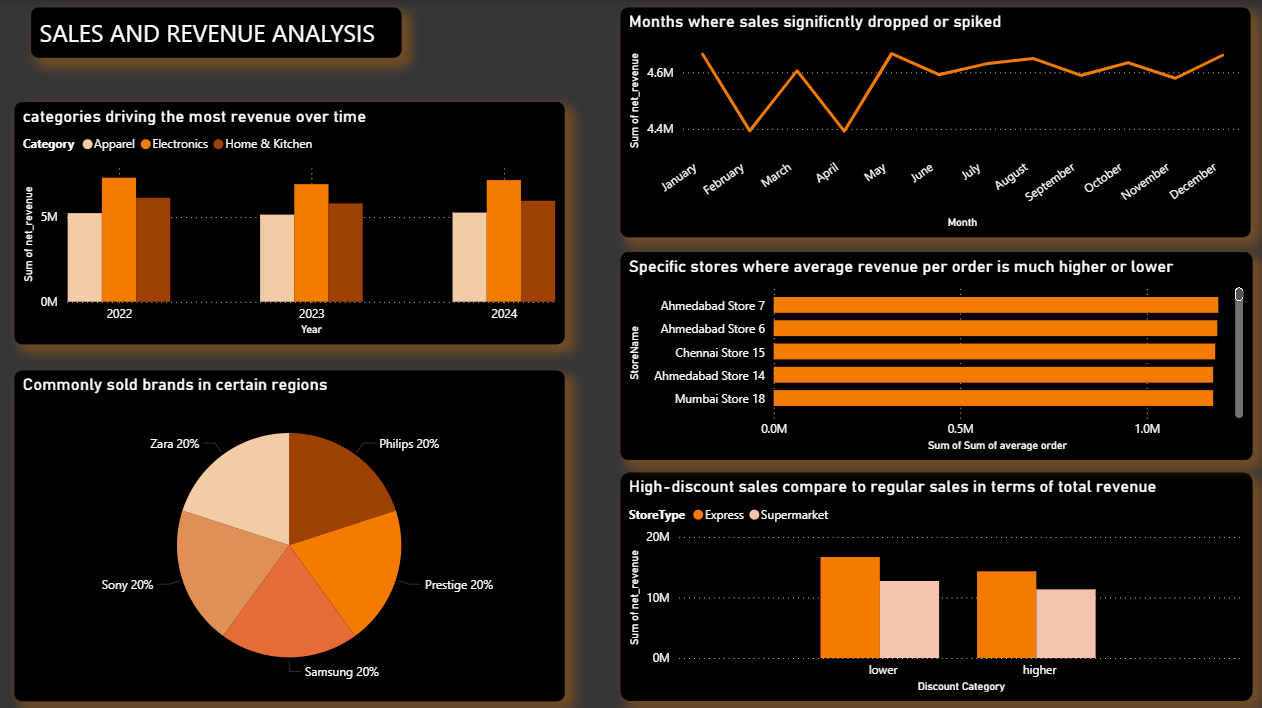

The dashboard page shown, as its layout file describes it:
{"tool":"powerbi","page":{"name":"Page 1","canvas":[1280,720],"ordinal":0},"visuals":[{"type":"clusteredColumnChart","title":"categories  driving the most revenue over time","fields":{"Category":["Sales.OrderDate.Variation.Date Hierarchy.Year"],"Y":["Sum(Sales.net_revenue)"],"Series":["Products.Category"]},"box":[15.9,103.4,555.1,245],"z":0},{"type":"lineChart","title":"Months where sales significntly dropped or spiked","fields":{"Category":["Sales.OrderDate.Variation.Date Hierarchy.Month"],"Y":["Sum(Sales.net_revenue)"]},"box":[628.3,8,636.2,232.2],"z":1000},{"type":"clusteredColumnChart","title":"High-discount sales compare to regular sales in terms of total revenue","fields":{"Category":["Sales.Discount Category"],"Y":["Sum(Sales.net_revenue)"],"Series":["Stores.StoreType"]},"box":[628.3,477.2,637.8,230.6],"z":2000},{"type":"pieChart","title":"Commonly sold brands in certain regions","fields":{"Y":["CountNonNull(Stores.StoreType)"],"Category":["Products.Brand"]},"box":[15.9,373.8,555.1,334],"z":3000},{"type":"barChart","title":"Specific stores where average revenue per order is much higher or lower","fields":{"Y":["Sum(Sales.Sum of average order)"],"Category":["Stores.StoreName"]},"box":[628.3,254.5,637.8,210],"z":4000},{"type":"textbox","box":[33.4,8,373.8,50.9],"z":5000}]}

Visuals, with their boxes in screenshot pixels (x1, y1, x2, y2), scaled from the page's 1280x720 canvas onto the 1262x708 screenshot:
"categories  driving the most revenue over time" clusteredColumnChart: <bbox>16, 102, 563, 343</bbox>
"Months where sales significntly dropped or spiked" lineChart: <bbox>619, 8, 1247, 236</bbox>
"High-discount sales compare to regular sales in terms of total revenue" clusteredColumnChart: <bbox>619, 469, 1248, 696</bbox>
"Commonly sold brands in certain regions" pieChart: <bbox>16, 368, 563, 696</bbox>
"Specific stores where average revenue per order is much higher or lower" barChart: <bbox>619, 250, 1248, 457</bbox>
textbox: <bbox>33, 8, 401, 58</bbox>
